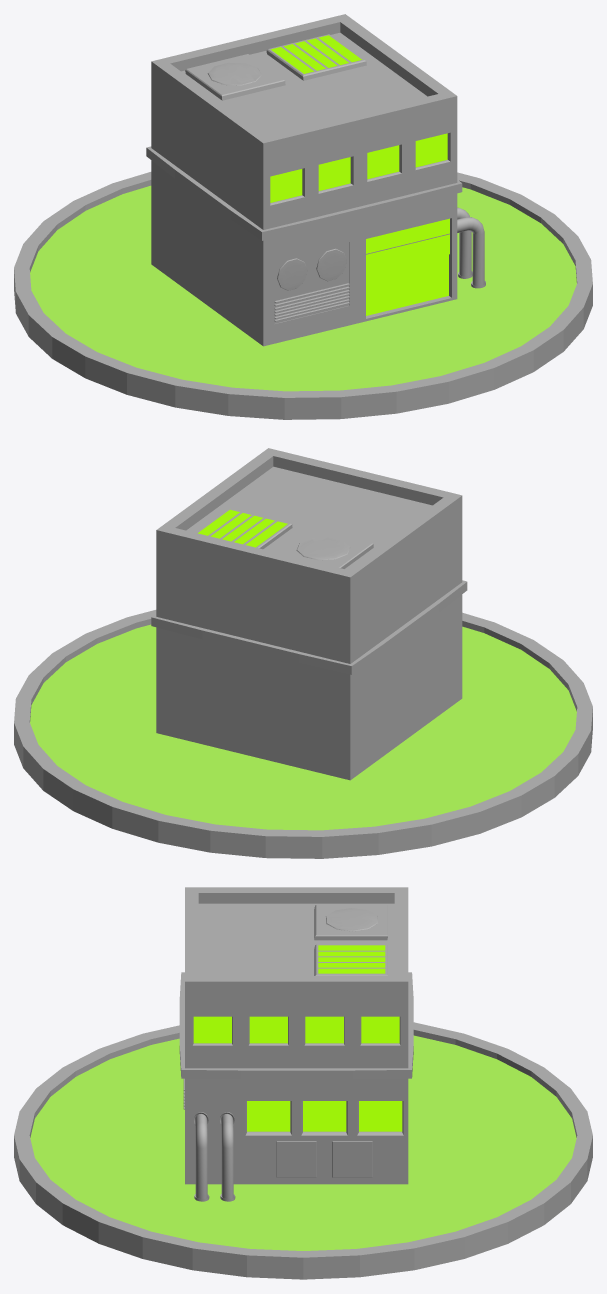
File: company-secondary.glb
3 views of the same model, one above another, from view 1: azimuth 30°, elevation 25°; view 2: azimuth 150°, elevation 25°; view 3: azimuth 270°, elevation 25° (orthographic).
Visible parts, largest first — view 1: Factory1__0, Cylinder; view 2: Factory1__0, Cylinder; view 3: Cylinder, Factory1__0.
Part boxes in pixels (bbox=[...]): Factory1__0: bbox=[146, 14, 485, 346]; Cylinder: bbox=[14, 172, 592, 419]; Factory1__0: bbox=[151, 448, 467, 780]; Cylinder: bbox=[14, 610, 592, 858]; Cylinder: bbox=[14, 1022, 592, 1279]; Factory1__0: bbox=[179, 887, 413, 1201].
Size of the model in its own units: 6.49 by 2.74 by 6.49.
